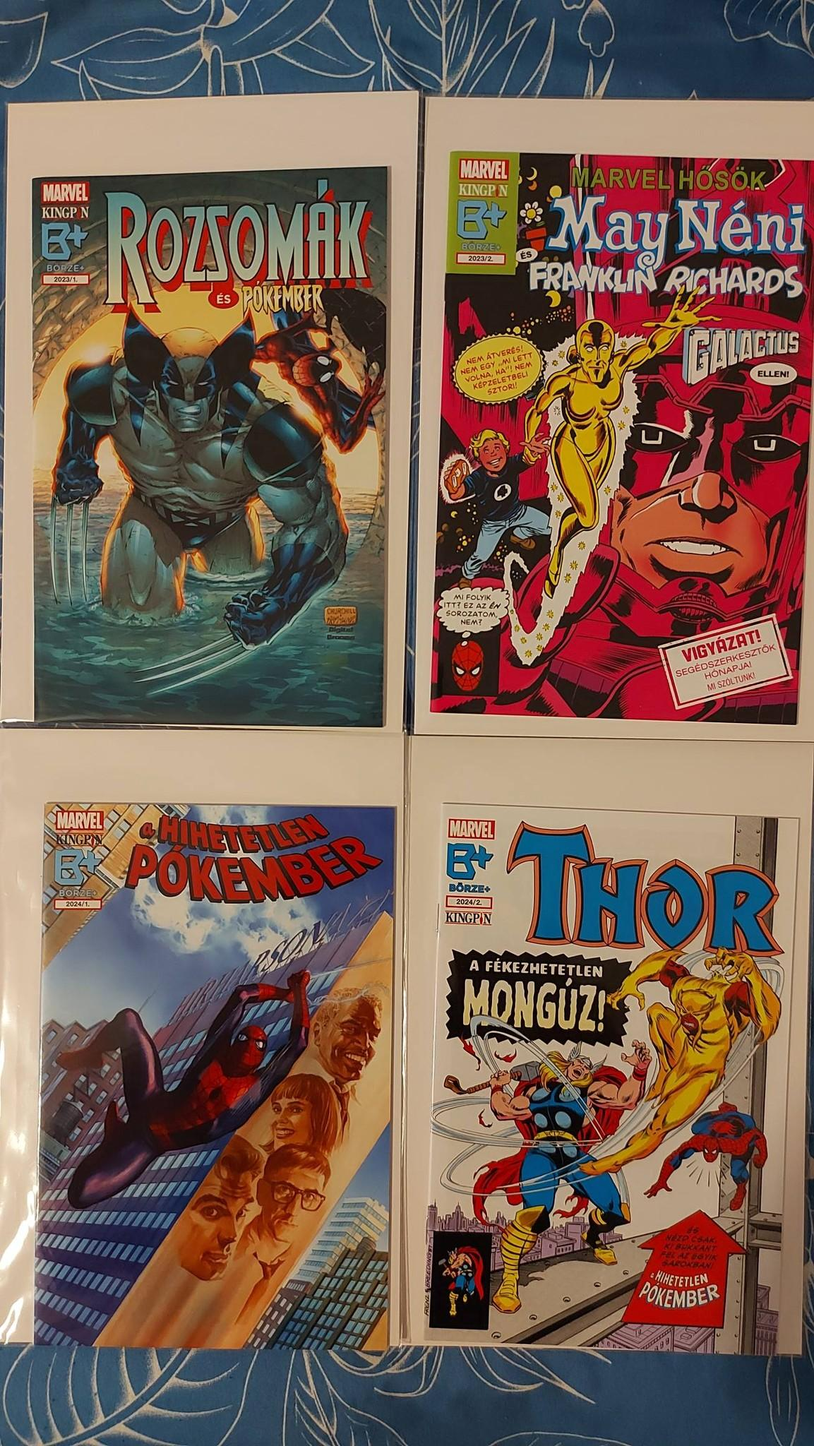comic: (416, 103, 814, 737), (420, 802, 800, 1355), (32, 165, 387, 726), (35, 799, 394, 1349)
